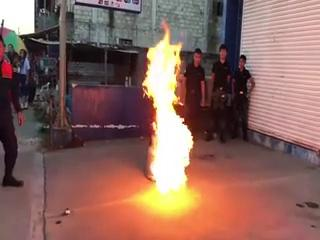Fire: (140, 38, 194, 196)
